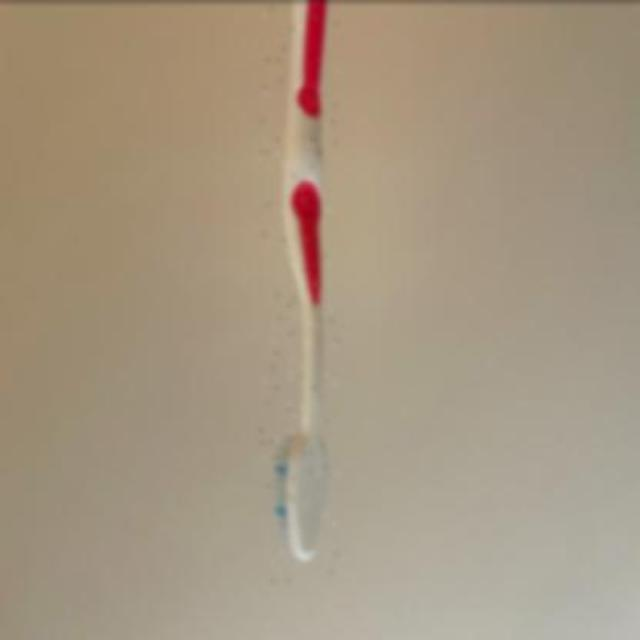toothbrush: (260, 1, 338, 584)
